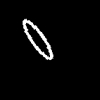chain: (23, 19, 52, 59)
